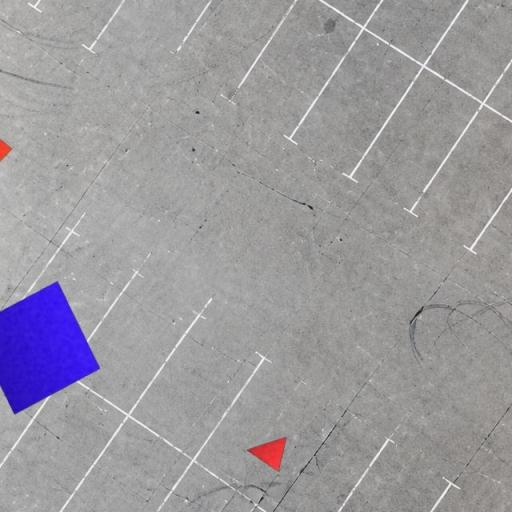BLUE_SQUARE: (0, 281, 101, 415)
